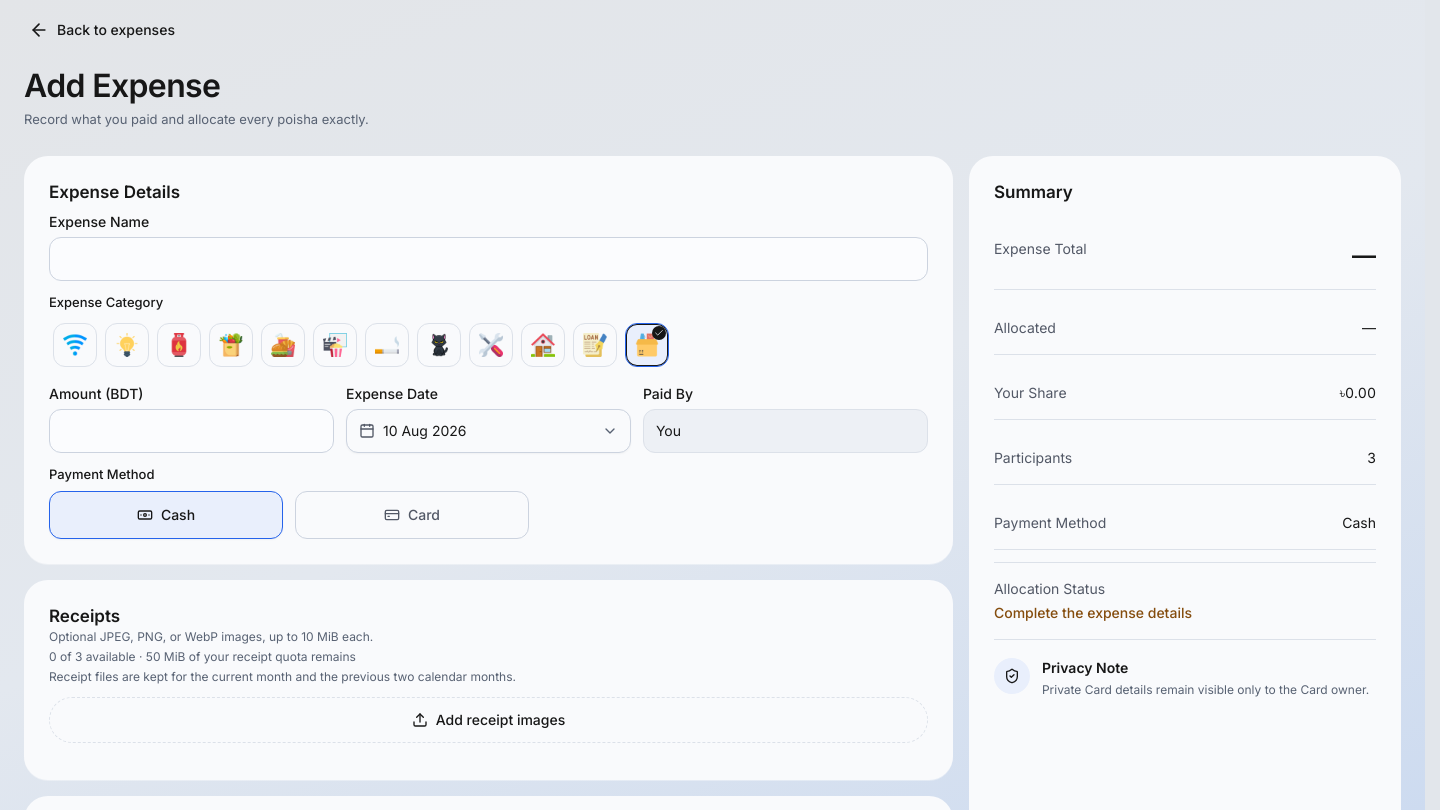
Test case: receipt retention presentation › renders an accessible twelve-option semantic category radio group with Other selected by default
The width and height of the screenshot is (1440, 810).
Expected: the heading "Add Expense" is shown, 24,66 -> 220,105
Expected: the radio button named "Other" is checked, 625,323 -> 669,367
Step 1. Click the radio button named "Pet" → (439, 345), box 417,323 -> 461,367
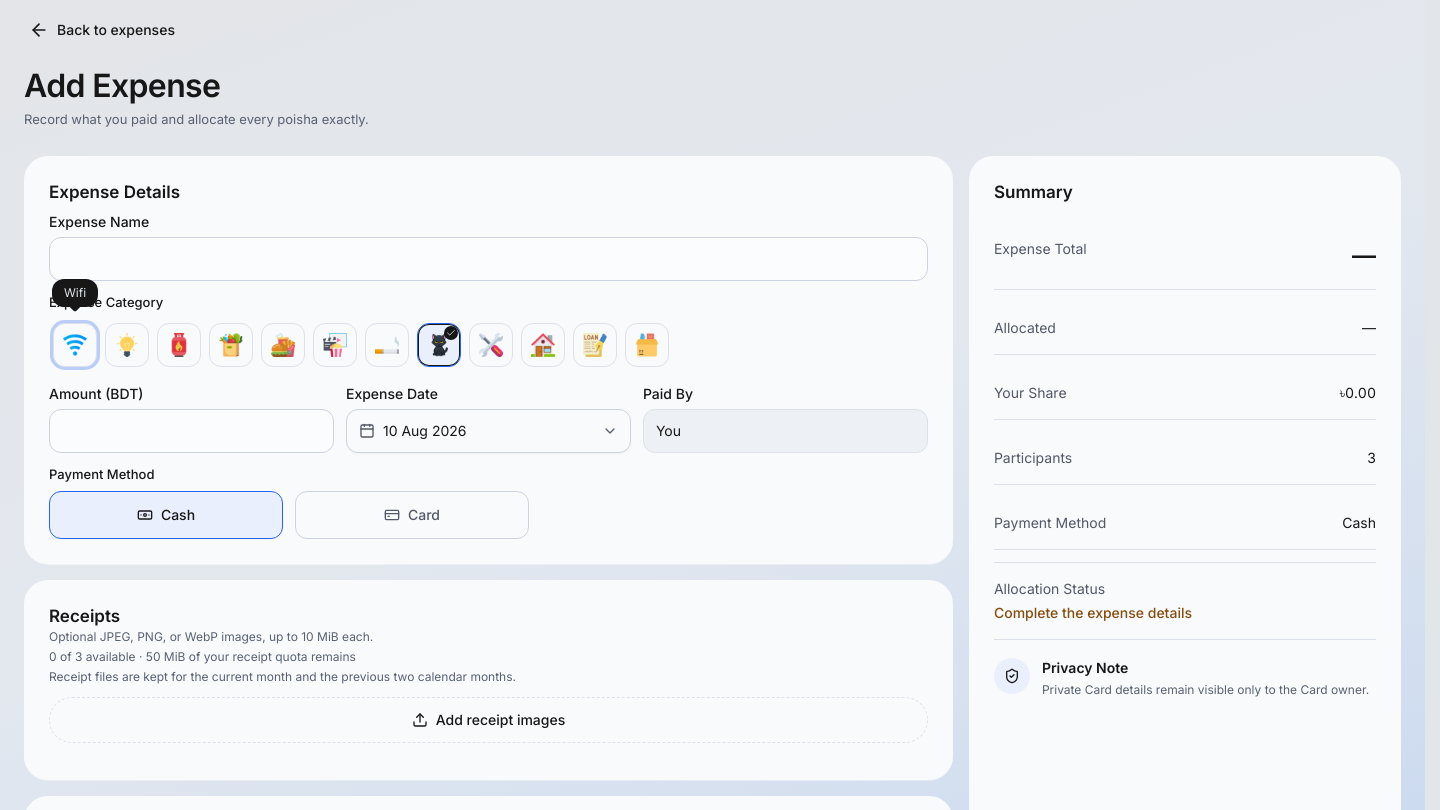
Expected: the radio button named "Pet" is checked, 417,323 -> 461,367
Expected: the radio button named "Other" is not checked, 625,323 -> 669,367
Expected: the tooltip reads "Wifi", 64,285 -> 86,300
